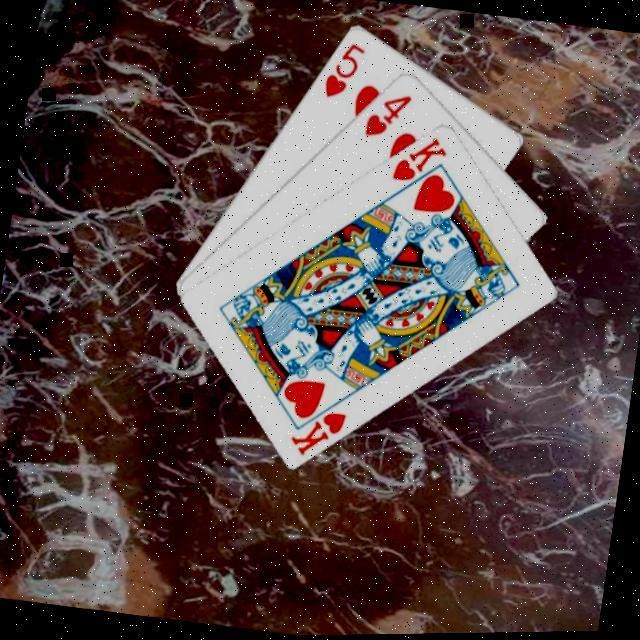4H: (362, 85, 419, 144)
5H: (321, 35, 371, 105)
KH: (287, 400, 353, 463), (391, 127, 455, 189)
